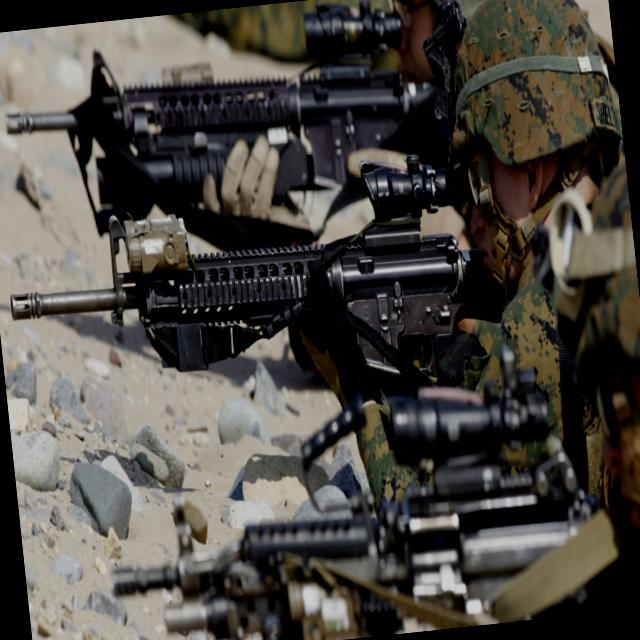long weapon: (98, 403, 597, 630), (2, 171, 477, 355), (0, 2, 399, 161)
